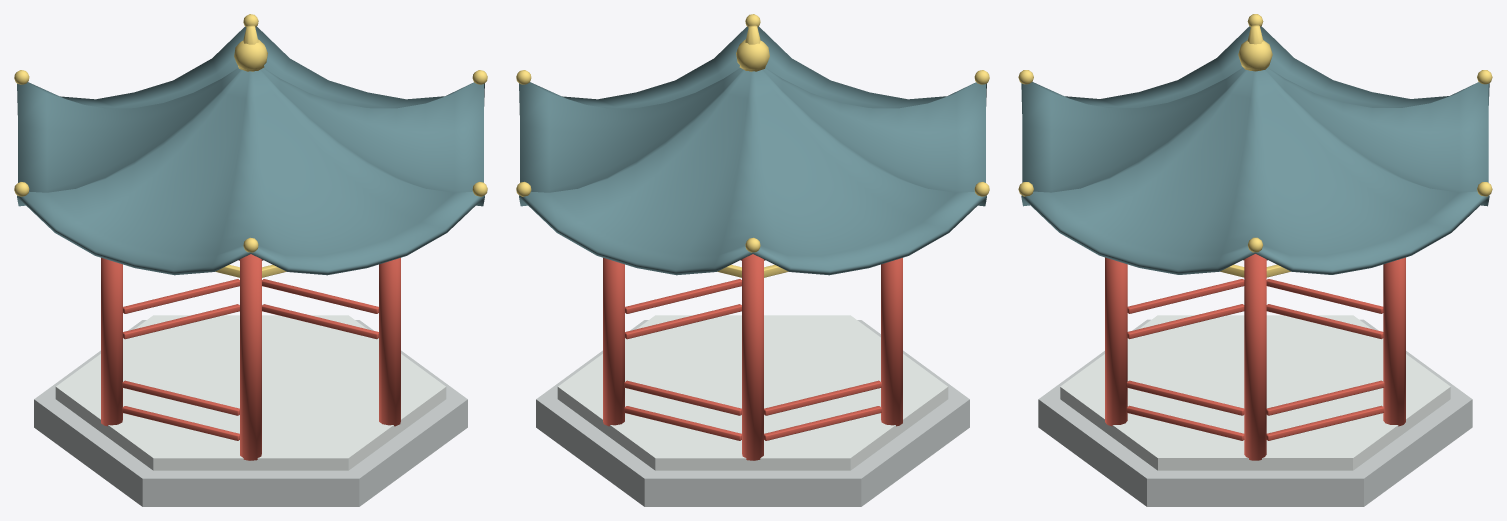
Rendered from pavilion.glb.
3 views of the same model, side by side, from view 1: azimuth 30°, elevation 25°; view 2: azimuth 150°, elevation 25°; view 3: azimuth 270°, elevation 25° (orthographic).
Visible parts, largest first — view 1: Roof, Floor, Base, Col4, Col5, Col3, Rail3, RailB3, RailB0, RailB1, Rail0, Rail1 (+1 smaller); view 2: Roof, Floor, Base, Col2, Col1, Col3, Rail1, Rail2, RailB1, RailB2, RailB5, Rail5 (+1 smaller); view 3: Roof, Floor, Base, Col0, Col1, Col5, Rail0, Rail5, RailB0, RailB5, RailB2, RailB3 (+3 smaller).
Part boxes in pixels (bbox=[...]): Roof: bbox=[17, 26, 484, 275]; Floor: bbox=[55, 315, 446, 470]; Base: bbox=[34, 320, 467, 506]; Col4: bbox=[240, 254, 261, 460]; Col5: bbox=[379, 258, 400, 426]; Col3: bbox=[101, 258, 122, 426]; Rail3: bbox=[122, 380, 239, 415]; RailB3: bbox=[122, 406, 239, 440]; RailB0: bbox=[262, 304, 378, 339]; RailB1: bbox=[123, 304, 239, 339]; Rail0: bbox=[262, 279, 378, 313]; Rail1: bbox=[123, 279, 239, 313]; Roof: bbox=[519, 26, 986, 275]; Floor: bbox=[557, 315, 948, 470]; Base: bbox=[536, 320, 969, 506]; Col2: bbox=[742, 254, 763, 460]; Col1: bbox=[603, 258, 624, 426]; Col3: bbox=[881, 258, 902, 426]; Rail1: bbox=[624, 380, 741, 415]; Rail2: bbox=[764, 380, 881, 415]; RailB1: bbox=[624, 406, 741, 440]; RailB2: bbox=[764, 406, 881, 440]; RailB5: bbox=[625, 304, 741, 339]; Rail5: bbox=[625, 279, 741, 313]; Roof: bbox=[1021, 26, 1489, 274]; Floor: bbox=[1060, 315, 1450, 470]; Base: bbox=[1038, 319, 1472, 506]; Col0: bbox=[1244, 254, 1266, 460]; Col1: bbox=[1383, 257, 1405, 426]; Col5: bbox=[1105, 257, 1127, 426]; Rail0: bbox=[1266, 380, 1384, 415]; Rail5: bbox=[1126, 380, 1244, 415]; RailB0: bbox=[1266, 405, 1384, 440]; RailB5: bbox=[1126, 405, 1244, 440]; RailB2: bbox=[1266, 304, 1383, 339]; RailB3: bbox=[1127, 304, 1244, 339].
Size of the model in its own units: 6.27 by 5.1 by 5.46.
